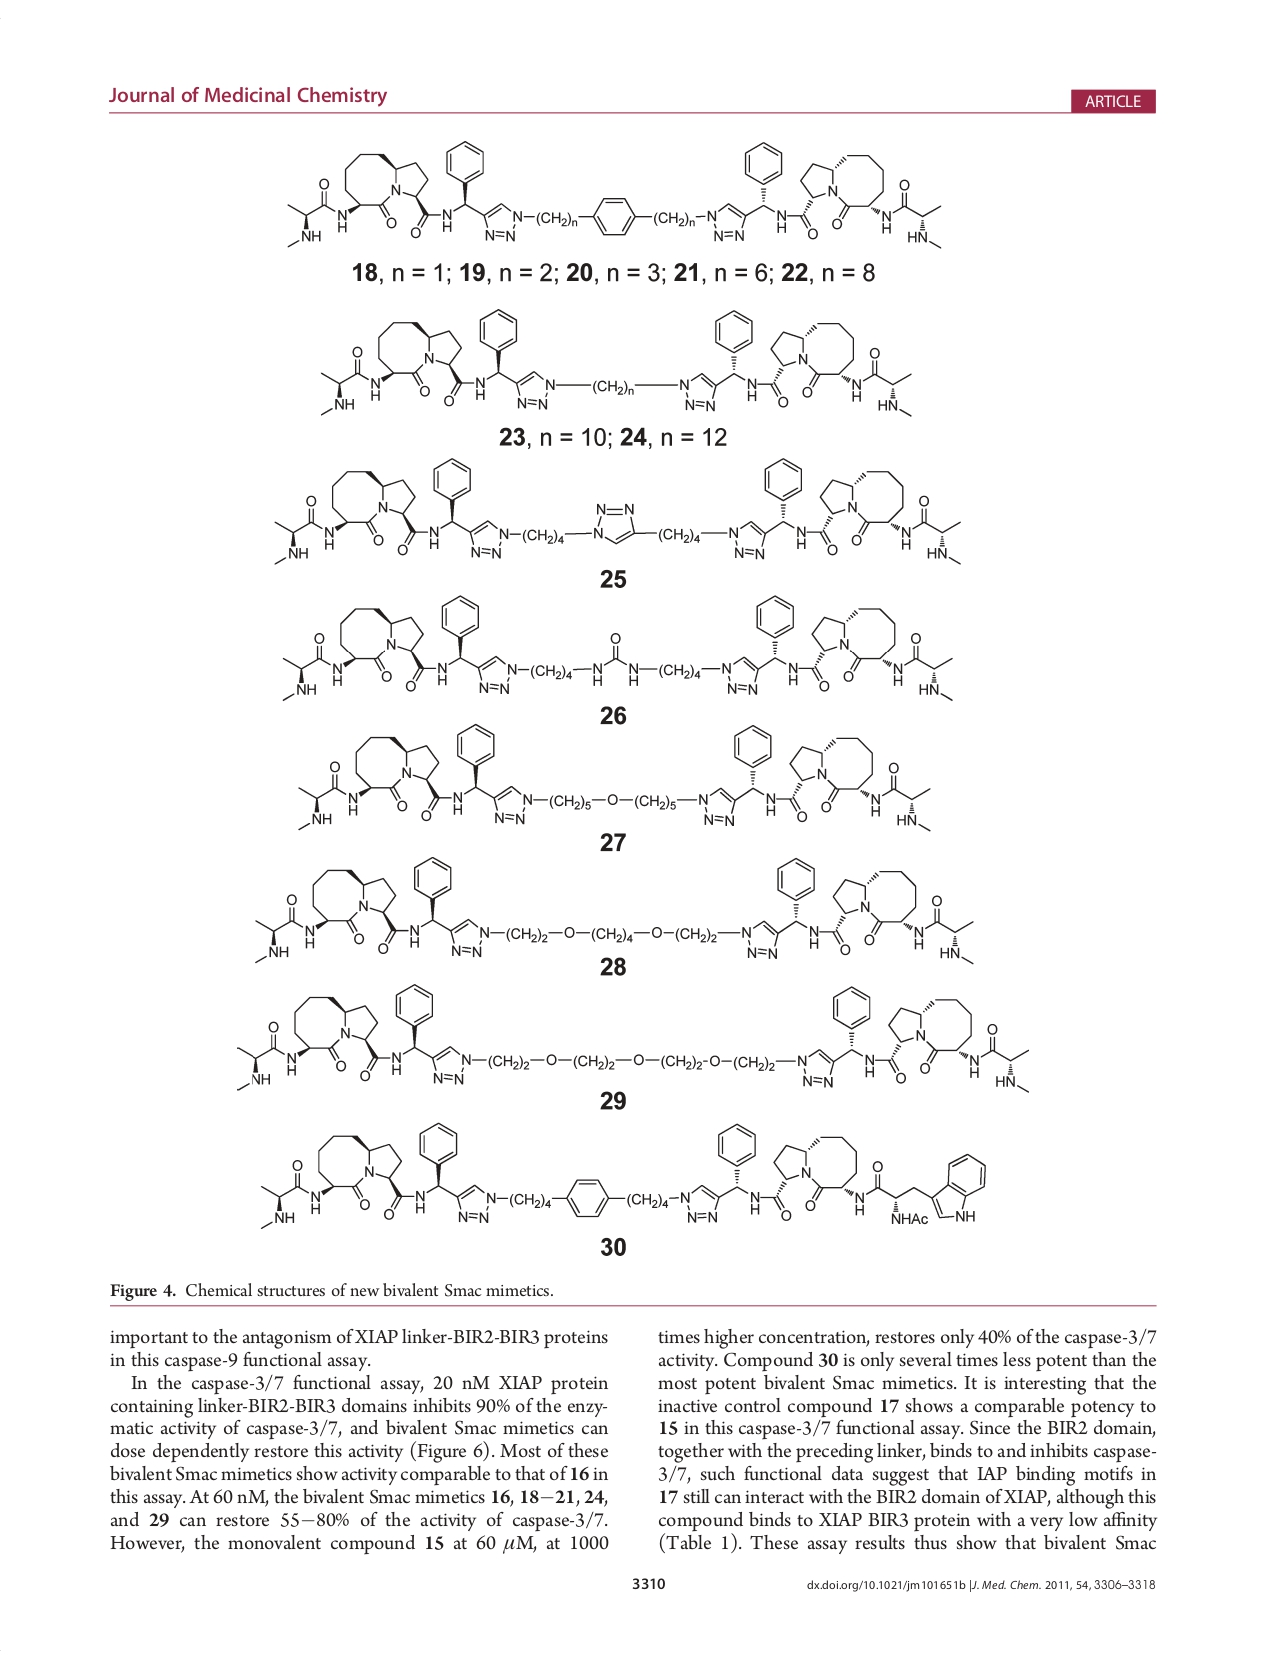exist_molecular: (234, 981, 1039, 1094), (257, 1118, 993, 1230), (247, 854, 983, 965), (270, 456, 969, 568), (279, 592, 957, 705), (285, 140, 948, 251), (295, 721, 938, 833), (318, 307, 920, 422)
